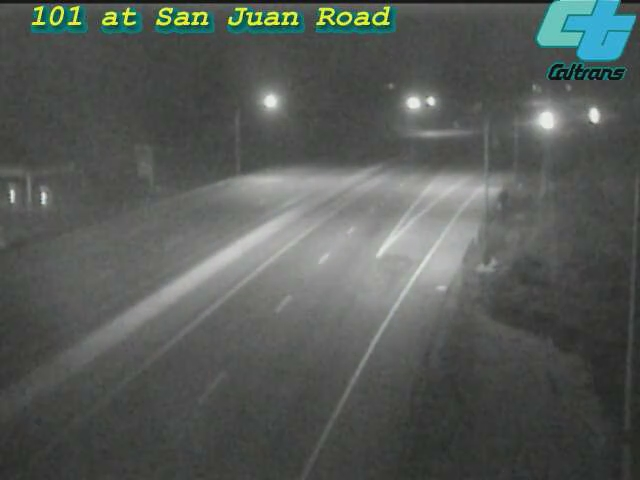vehicle: (522, 96, 572, 146), (568, 90, 618, 140)
